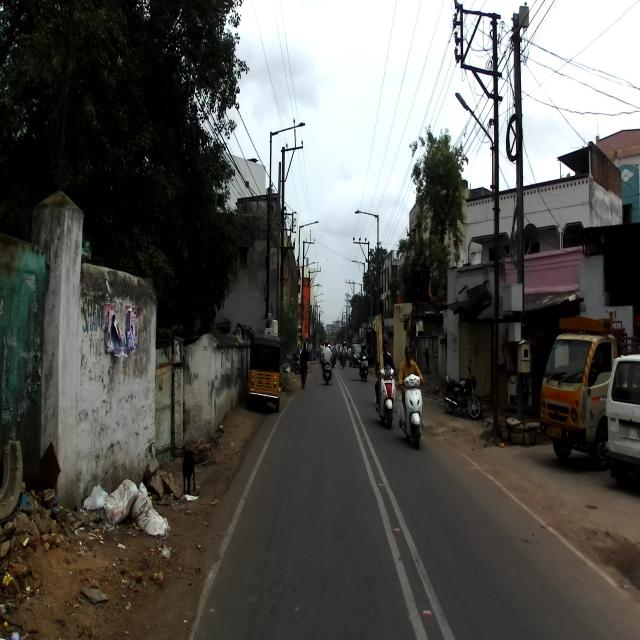car: (605, 355, 639, 492)
motorcycle: (442, 357, 482, 420)
scooter: (398, 370, 423, 450), (375, 362, 397, 430)
truck: (536, 314, 636, 465)
